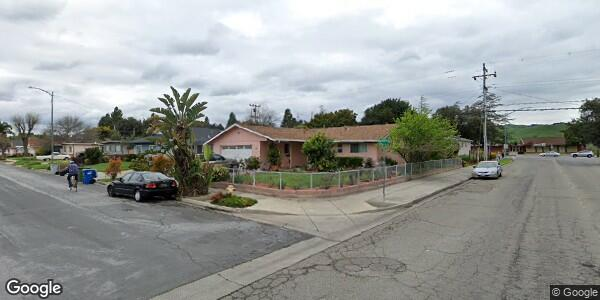Steel_Pole: (26, 85, 56, 168)
Wood_Pole: (472, 61, 498, 160)
